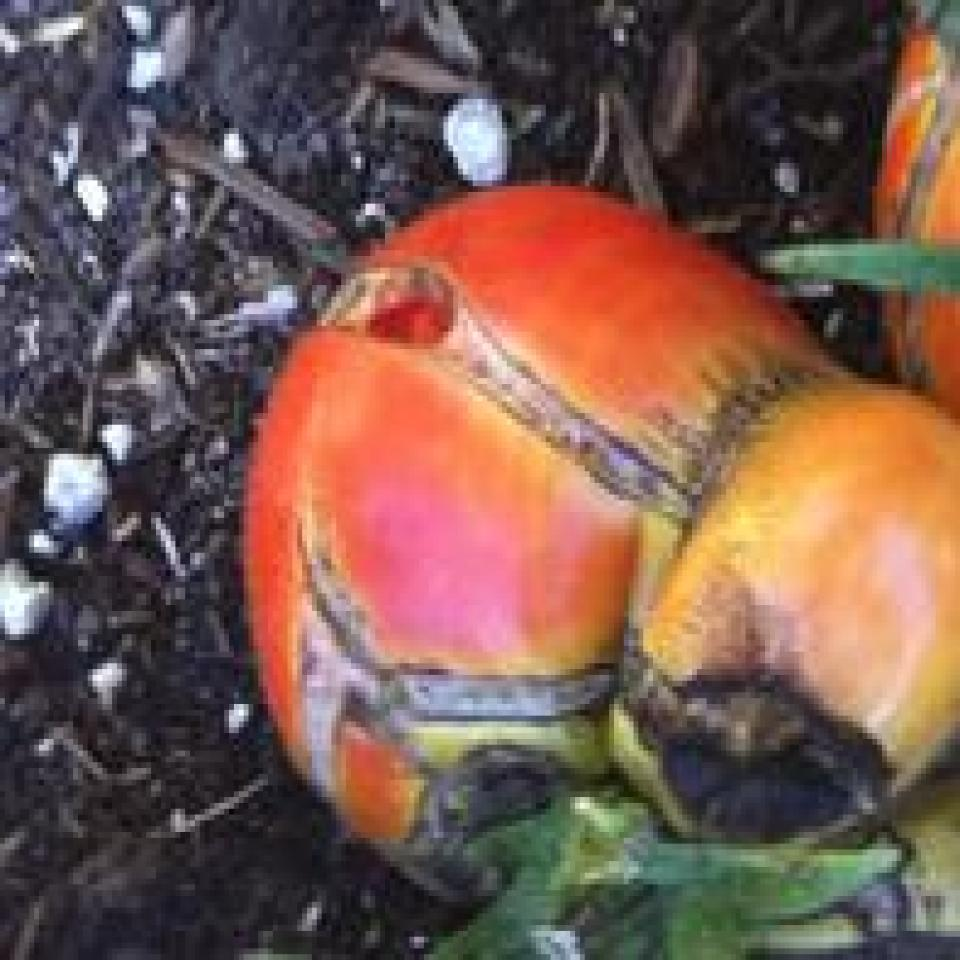Cracking: (291, 244, 734, 527), (269, 474, 622, 804), (583, 568, 877, 837)
